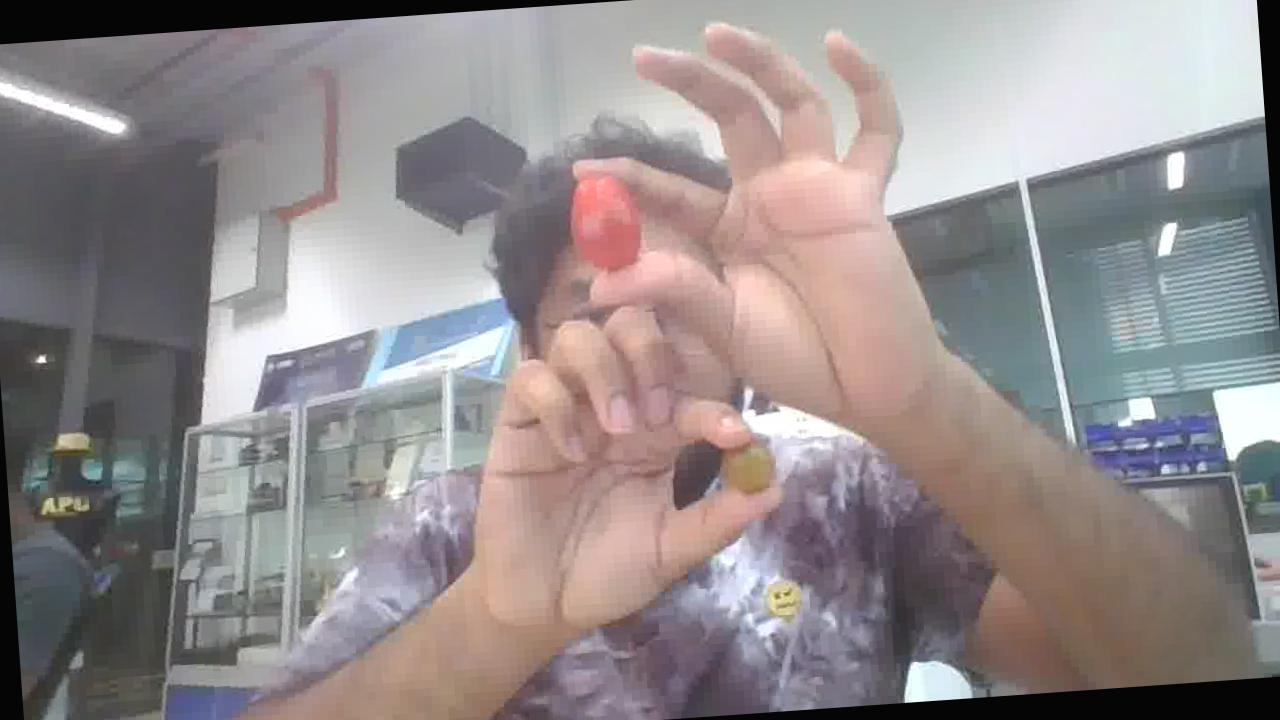red_cherry_tomato: (570, 176, 640, 270)
yellow_cherry_tomato: (720, 441, 774, 492)
